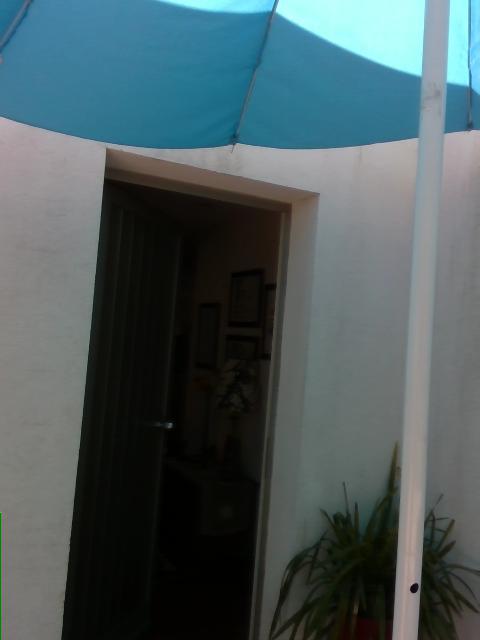semi_door: (56, 164, 293, 639)
